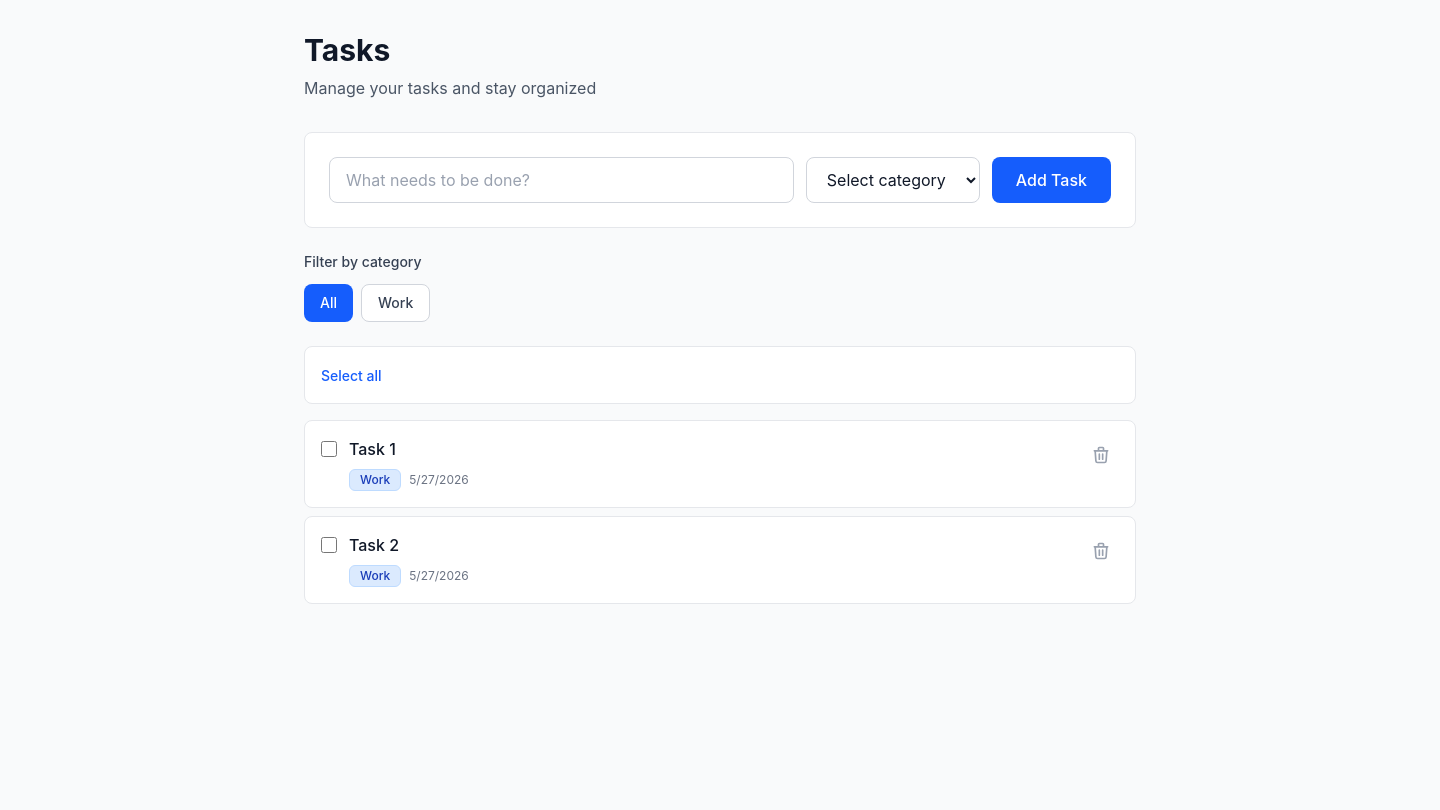
Undo and Bulk Actions › should show undo button when completing a task
Expected: the text "Task 1" is shown, x1=349 y1=439 x2=396 y2=459
Click the checkbox named "Mark task as complete" next to "Task 2" at (329, 545), box x1=321 y1=537 x2=337 y2=553
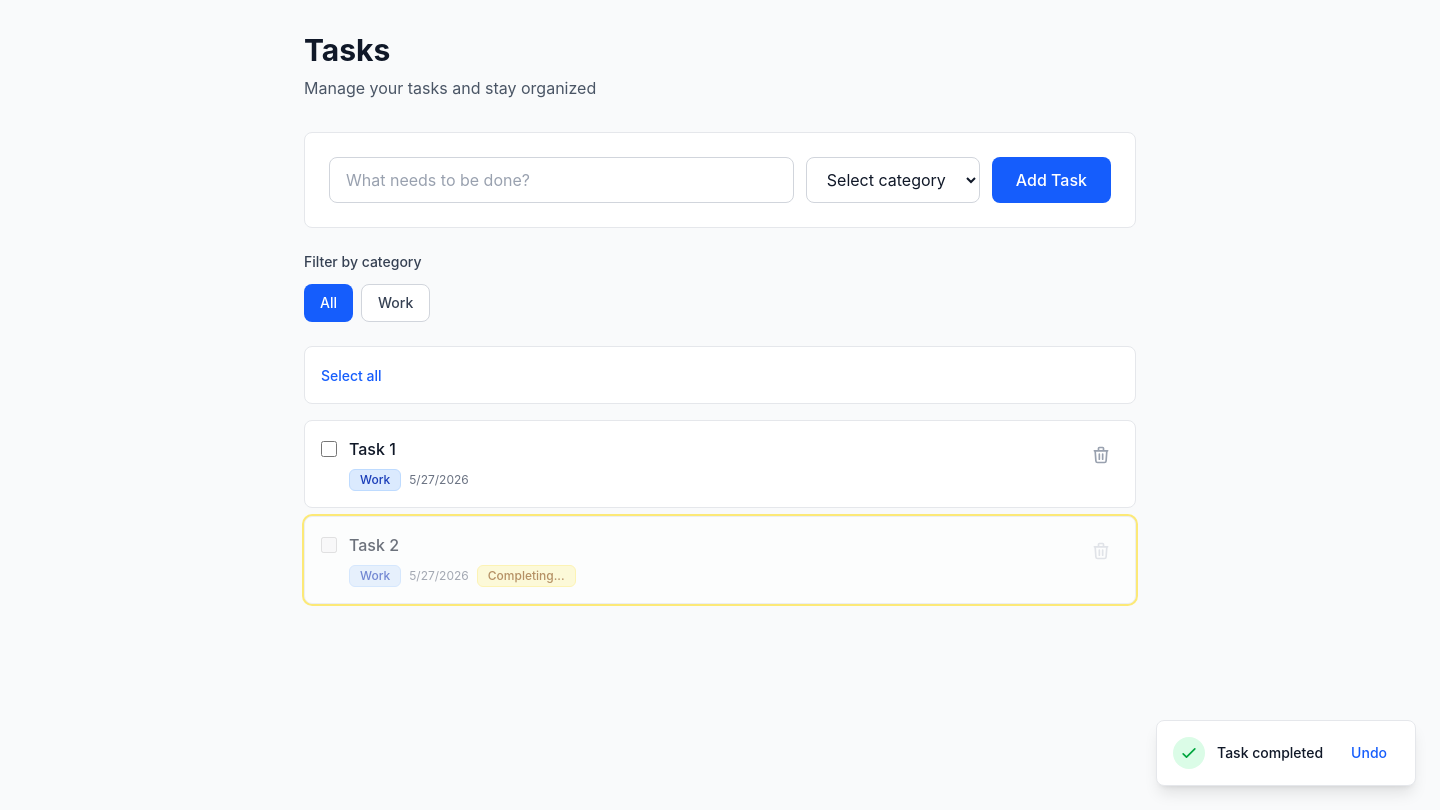
Result: the text "Task completed" is shown at x1=1217 y1=743 x2=1323 y2=763
Result: the button "Undo" is shown at x1=1339 y1=737 x2=1399 y2=769
